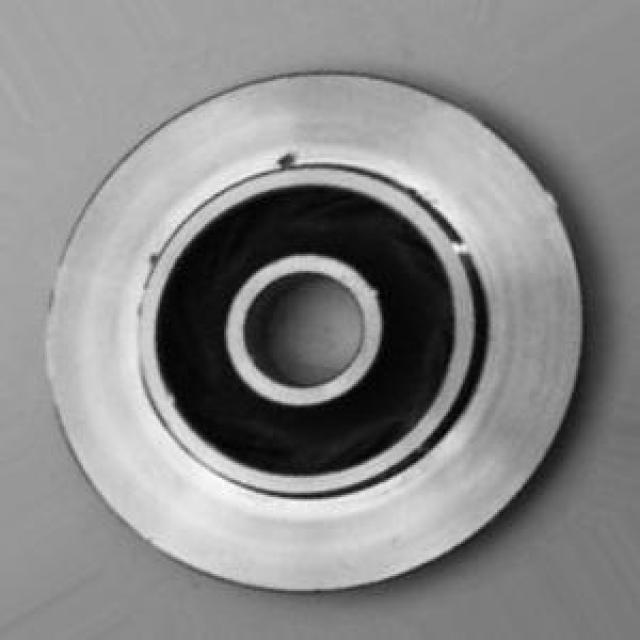Defect: (276, 144, 297, 172)
